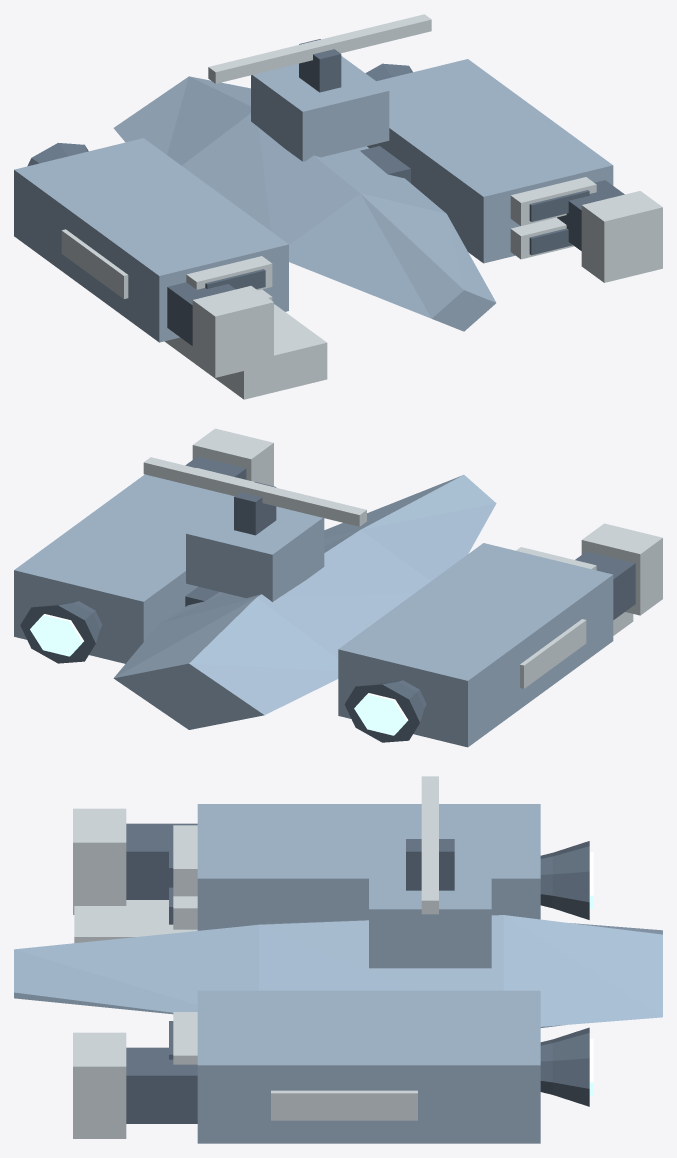
3 views of the same model, one above another, from view 1: azimuth 30°, elevation 25°; view 2: azimuth 150°, elevation 25°; view 3: azimuth 270°, elevation 25° (orthographic). The views are drawn at different scales.
Bounding box in the file's own units: 9.46 × 3.73 × 9.75.
